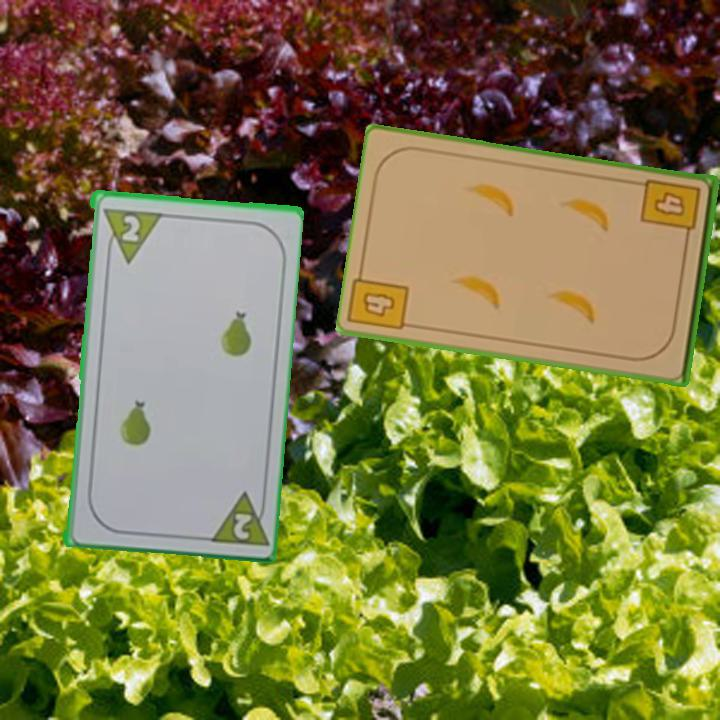2p: (202, 487, 269, 549), (98, 204, 162, 265)
4b: (638, 175, 704, 246), (358, 288, 398, 321)
